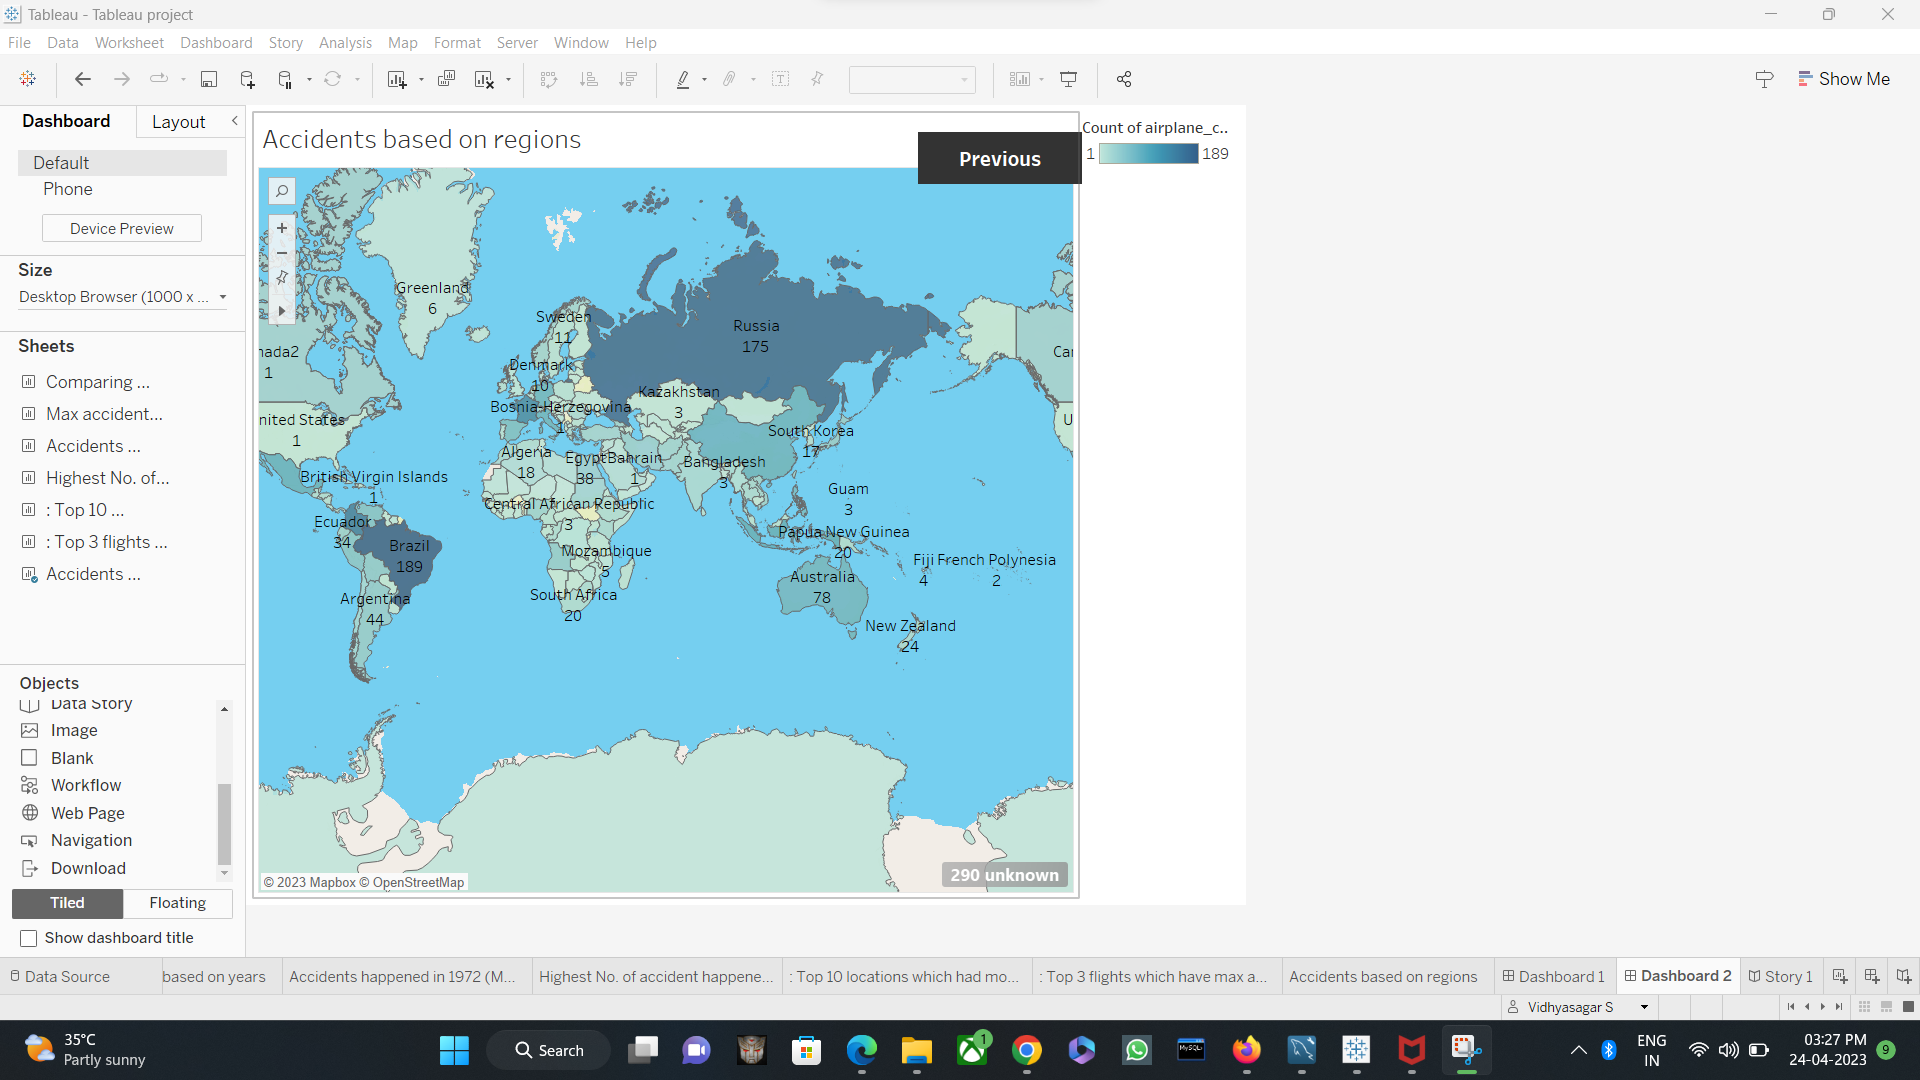

What the dashboard file says about the page in this screenshot:
{"tool":"tableau","page":{"name":"Dashboard 2","canvas":[1000,800],"ordinal":1},"visuals":[{"type":"worksheet","title":"Accidents based on regions","mark":"Automatic","box":[8,8,824,784]},{"type":"legend","title":"Accidents based on regions","param":"[federated.0fcok461ikxv8c1a9cy0o0rd9jlm].[__tableau_internal_object_id__].[cnt:a","box":[832,8,160,73]},{"type":"dashboard-object","box":[672,27,164,52]}]}

Visuals, with their boxes on the page's 1000x800 design canvas (x1, y1, x2, y2). These are canvas units, not pixel positions in the 1920x1080 screenshot, which may show the page scaled, cropped or inside an application window:
"Accidents based on regions" worksheet: Rect(8, 8, 832, 792)
"Accidents based on regions" legend: Rect(832, 8, 992, 81)
dashboard-object: Rect(672, 27, 836, 79)
